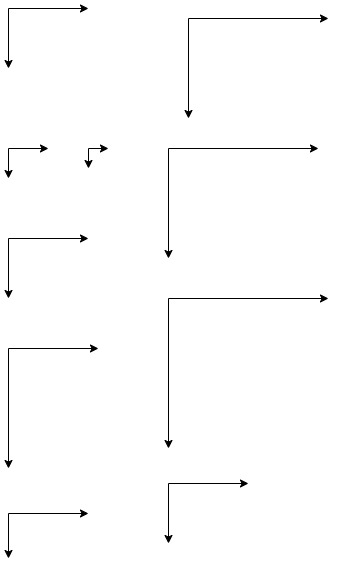bi_horizontal: (160, 291, 333, 452), (163, 140, 324, 263), (183, 12, 329, 119), (3, 342, 101, 471), (3, 228, 97, 306), (161, 476, 252, 547), (5, 2, 89, 70), (4, 507, 93, 560), (4, 144, 49, 180), (84, 142, 111, 169)
